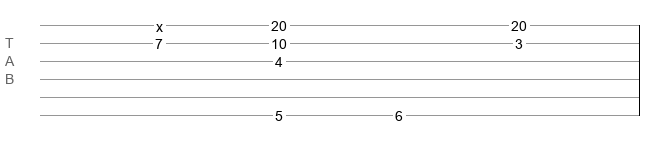10: (271, 36, 287, 46)
20: (271, 18, 287, 28), (511, 18, 527, 28)
3: (515, 36, 523, 46)
4: (275, 54, 283, 64)
5: (275, 108, 283, 118)
6: (395, 108, 403, 118)
7: (155, 36, 163, 46)
x: (156, 19, 163, 27)
